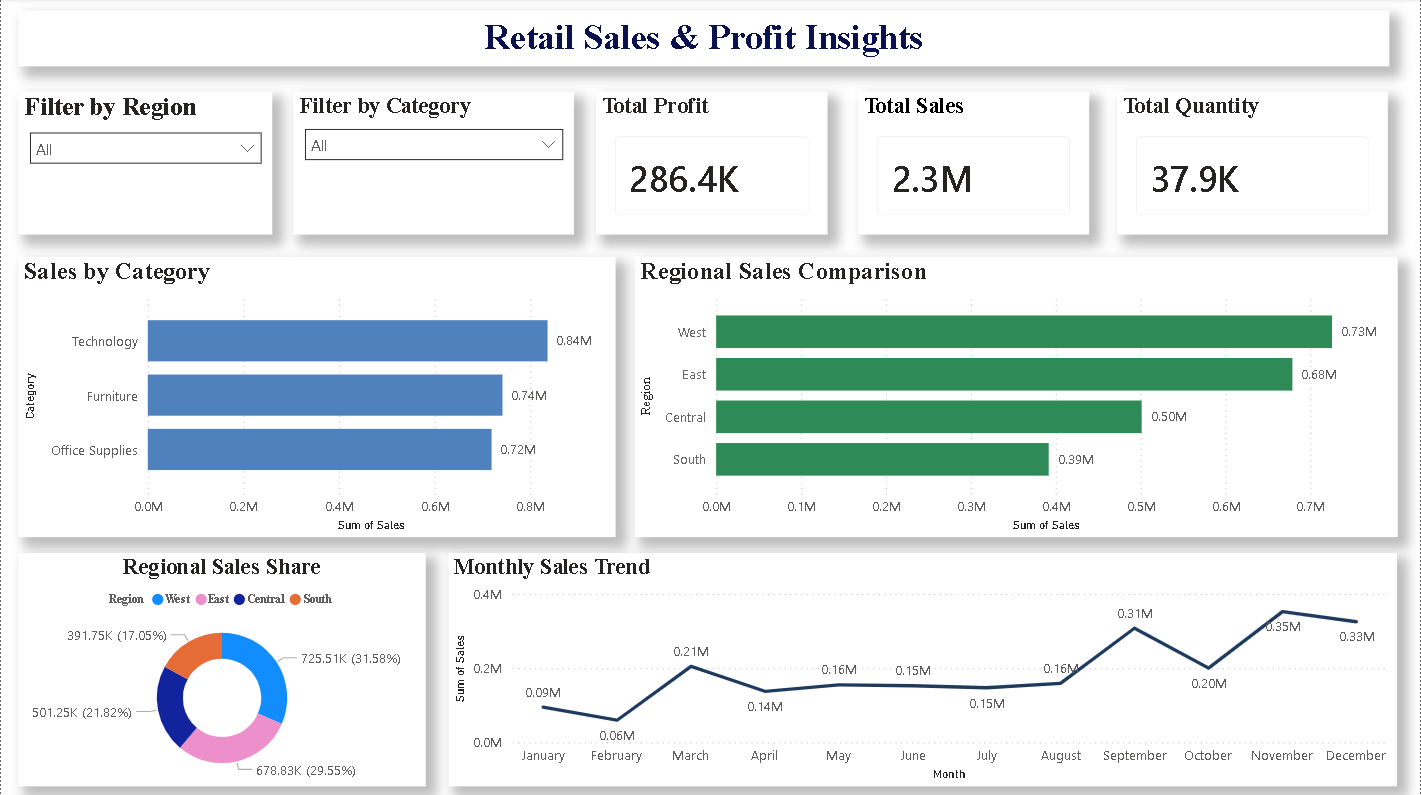

This screenshot's page, from the dashboard's own definition file:
{"tool":"powerbi","page":{"name":"Page 1","canvas":[1280,720],"ordinal":0},"visuals":[{"type":"cardVisual","title":"Total Sales","fields":{"Data":["Sum(Sample - Superstore.Sales)"]},"box":[773,85,208,129],"z":1000},{"type":"cardVisual","title":"Total Profit","fields":{"Data":["Sum(Sample - Superstore.Profit)"]},"box":[536,85,209,129],"z":2000},{"type":"cardVisual","title":"Total Quantity","fields":{"Data":["Sum(Sample - Superstore.Quantity)"]},"box":[1007,85,244,129],"z":3000},{"type":"clusteredBarChart","title":"Regional Sales Comparison","fields":{"Category":["Sample - Superstore.Region"],"Y":["Sum(Sample - Superstore.Sales)"]},"box":[571,233,688,253],"z":4000},{"type":"clusteredBarChart","title":"Sales by Category","fields":{"Category":["Sample - Superstore.Category"],"Y":["Sum(Sample - Superstore.Sales)"]},"box":[16,233,538,253],"z":5000},{"type":"lineChart","title":"Monthly Sales Trend","fields":{"Category":["Sample - Superstore.Order Date.Variation.Date Hierarchy.Month"],"Y":["Sum(Sample - Superstore.Sales)"]},"box":[403.5,500.4,855.5,210.8],"z":6000},{"type":"donutChart","title":"Regional Sales Share","fields":{"Category":["Sample - Superstore.Region"],"Y":["Sum(Sample - Superstore.Sales)"]},"box":[15.8,500.4,367.4,210.8],"z":7000},{"type":"slicer","title":"Filter by Region","fields":{"Values":["Sample - Superstore.Region"]},"box":[16,85,229,129],"z":8000},{"type":"slicer","title":"Filter by Category","fields":{"Values":["Sample - Superstore.Category"]},"box":[264,85,253,129],"z":9000},{"type":"textbox","box":[15.7,11.4,1235.7,50],"z":10000}]}

Visuals, with their boxes in screenshot pixels (x1, y1, x2, y2), scaled from the page's 1280x720 canvas onto the 1421x795 screenshot:
"Total Sales" cardVisual: Rect(858, 94, 1089, 236)
"Total Profit" cardVisual: Rect(595, 94, 827, 236)
"Total Quantity" cardVisual: Rect(1118, 94, 1389, 236)
"Regional Sales Comparison" clusteredBarChart: Rect(634, 257, 1398, 537)
"Sales by Category" clusteredBarChart: Rect(18, 257, 615, 537)
"Monthly Sales Trend" lineChart: Rect(448, 553, 1398, 785)
"Regional Sales Share" donutChart: Rect(18, 553, 425, 785)
"Filter by Region" slicer: Rect(18, 94, 272, 236)
"Filter by Category" slicer: Rect(293, 94, 574, 236)
textbox: Rect(17, 13, 1389, 68)
